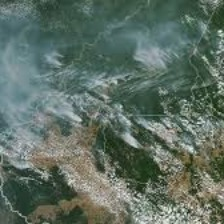incendio: (1, 100, 73, 159)
